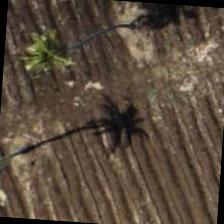Kelapa_Sawit: (1, 0, 98, 95)
